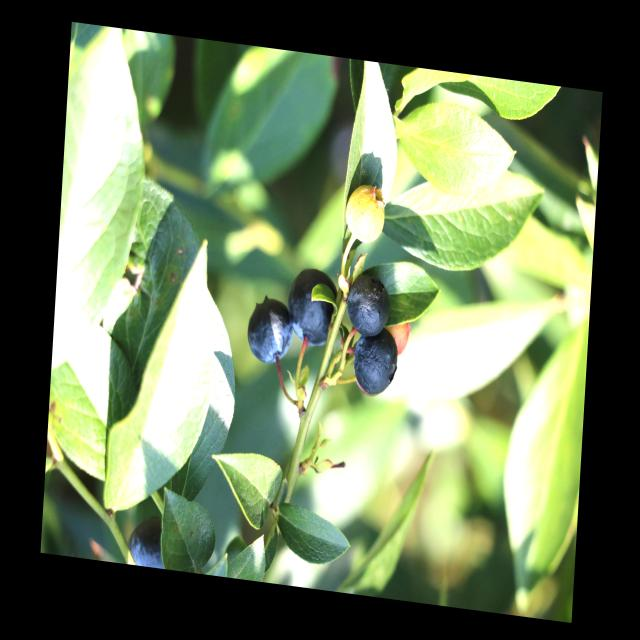blueberry: (287, 262, 341, 350), (244, 287, 297, 369), (350, 319, 401, 399), (342, 269, 393, 339), (128, 512, 177, 570)
blueberry-unripe: (341, 182, 386, 244)
